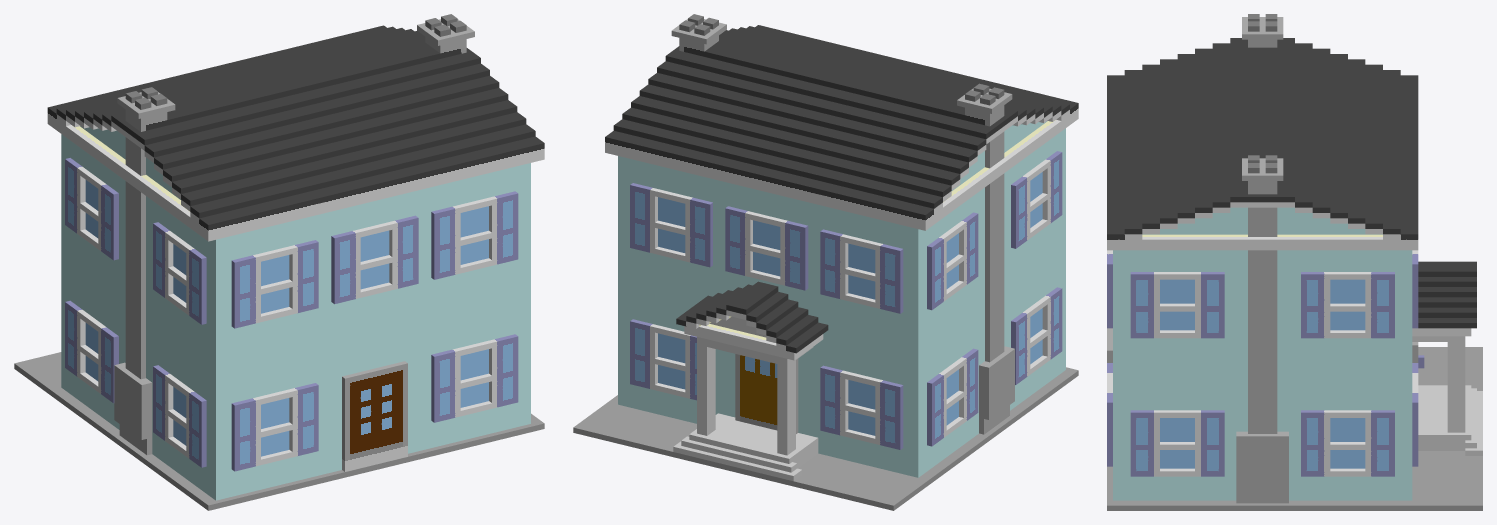
Rendered from obj_house4c.fbx.
The picture shows the model from 3 angles, left to right: view 1: azimuth 30°, elevation 25°; view 2: azimuth 150°, elevation 25°; view 3: azimuth 270°, elevation 25°; orthographic projection. The views are drawn at different scales.
Parts seen in each view (by area): view 1: obj_house4c; view 2: obj_house4c; view 3: obj_house4c.
Boxes of the visible parts, x1,y1,x2,y2 form: obj_house4c: [14, 14, 544, 510]; obj_house4c: [573, 14, 1078, 510]; obj_house4c: [1107, 14, 1482, 510].
Bounding box in the file's own units: 6.4 × 6.4 × 6.4.
1 material, 1 textured.
